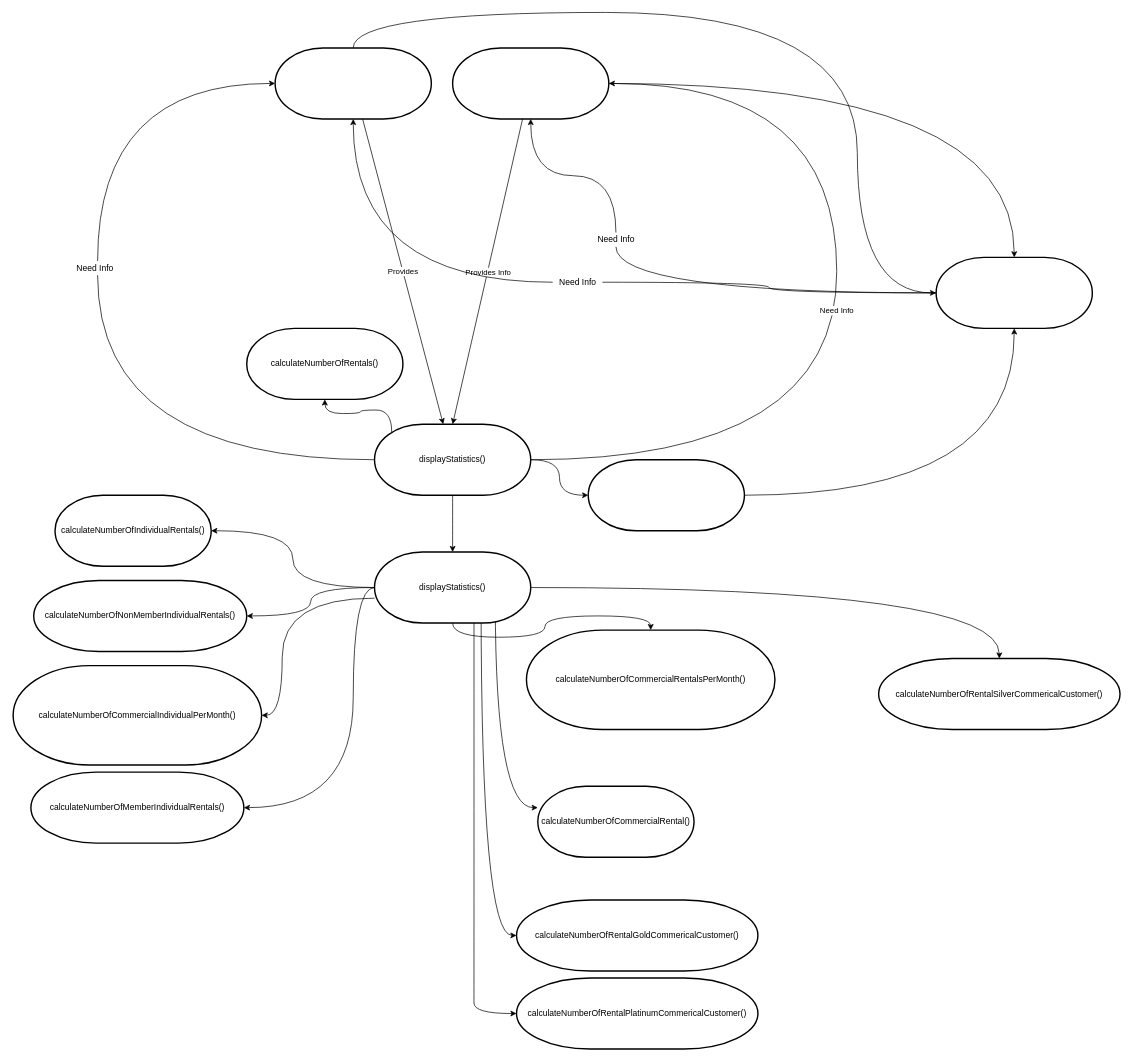
Image size: 1132x1062. Some labels were removed from this diagram. The box of each missing label's shape, as (x1, y1, x2, y2) in pixels:
calculatefRentalPrice(): (587, 459, 745, 531)
Customers: (452, 47, 609, 119)
displayTables(): (935, 256, 1093, 329)
Rentals: (274, 47, 432, 119)
